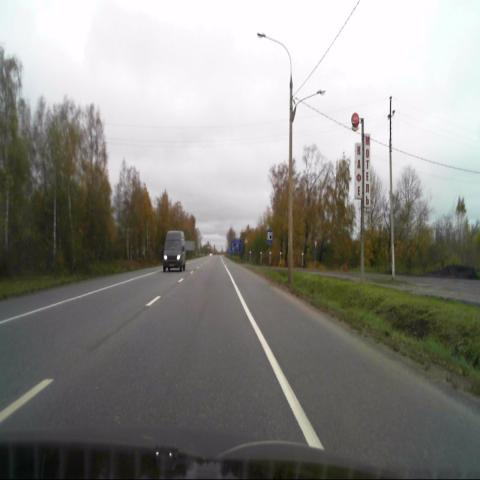7_3: (267, 229, 273, 244)
